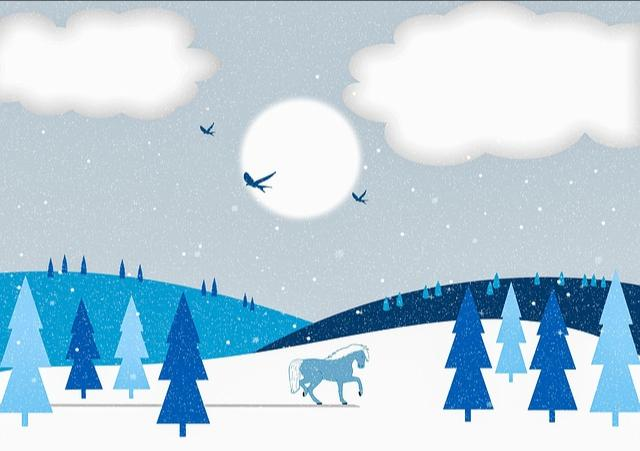Non_Gorille: (48, 152, 570, 451)
